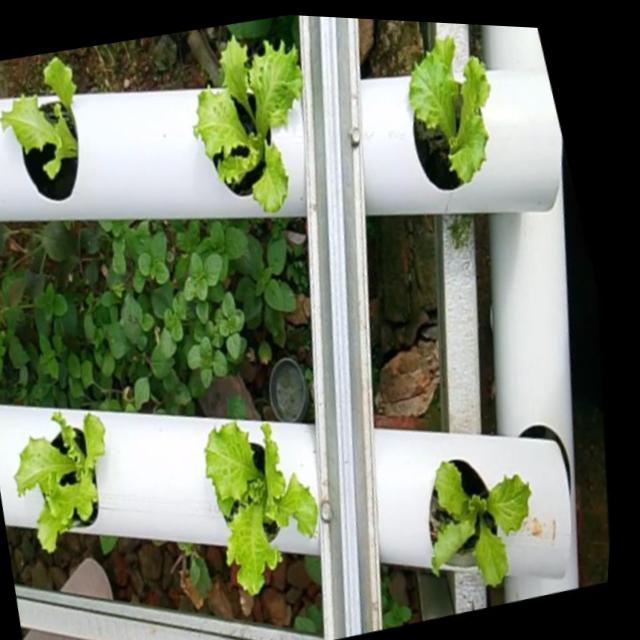Baby: (194, 28, 302, 210), (205, 417, 318, 590), (428, 453, 531, 581), (17, 410, 106, 551), (408, 33, 488, 186), (1, 59, 79, 201)
